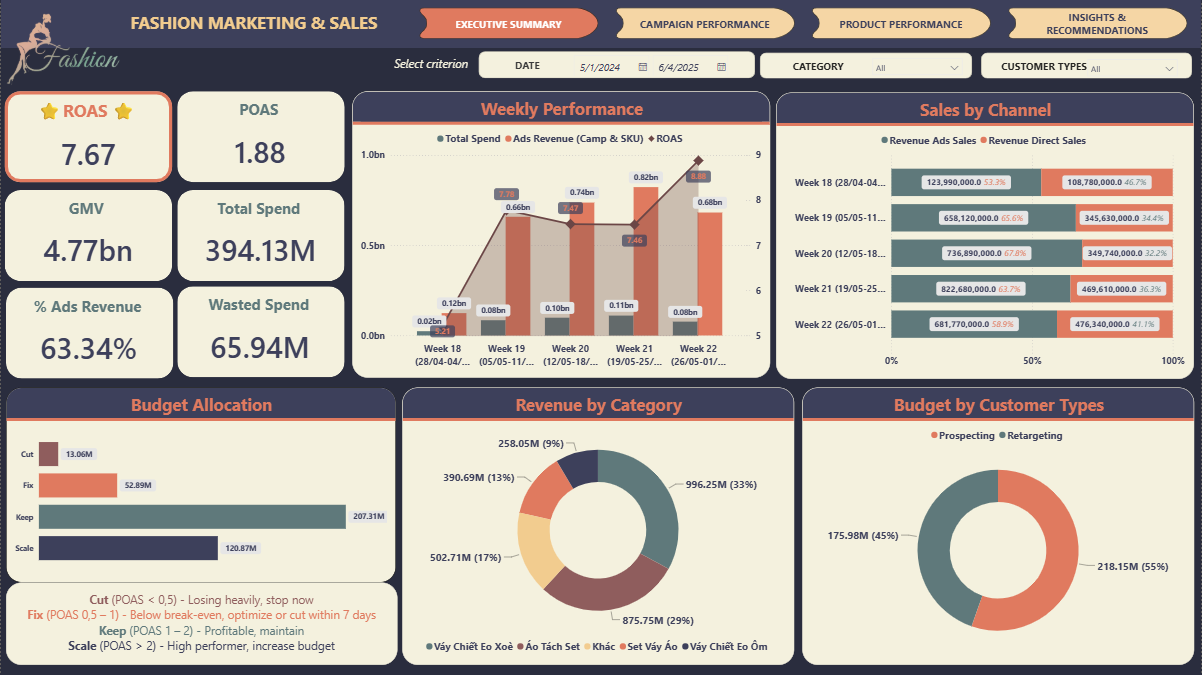

The page's visual inventory and layout, read from the dashboard file:
{"tool":"powerbi","page":{"name":"EXECUTIVE SUMMARY","canvas":[1920,1080],"ordinal":0},"visuals":[{"type":"shape","box":[0,0,1920.5,77],"z":0},{"type":"shape","box":[764,81.5,442.7,43.2],"z":0,"group":"g1"},{"type":"textbox","box":[779.7,86.8,124.4,32],"z":1000,"group":"g1"},{"type":"shape","box":[282.1,146,267.8,145.4],"z":1000,"group":"g2"},{"type":"lineClusteredColumnComboChart","title":"Weekly Performance","fields":{"Category":["Dim_Date.Week-Date"],"Y":["_Measures.Total Spend","_Measures.Revenue of Ads (by Camp and SKU)"],"Y2":["_Measures.ROAS (Return on Ads Spend)"]},"box":[561.1,146,669.2,458.8],"z":1000},{"type":"shape","box":[5.2,146.7,267.8,145.5],"z":1000,"group":"g3"},{"type":"shape","box":[282.1,303.7,267.8,145.9],"z":1000,"group":"g5"},{"type":"shape","box":[5.2,304.1,267.8,145.9],"z":1000,"group":"g6"},{"type":"shape","box":[281.5,458.7,267.8,145.9],"z":1000,"group":"g7"},{"type":"shape","box":[7.6,460.1,267.8,145.9],"z":1000,"group":"g8"},{"type":"slicer","fields":{"Values":["Dim_Date.Date"]},"box":[903.1,83.2,287.5,37.5],"z":2000,"group":"g1"},{"type":"clusteredBarChart","title":"Budget Allocation","fields":{"Category":["Dim_Camp_Cost.Action Bucket Col"],"Y":["_Measures.Total Spend"]},"box":[8,620,624,312],"z":2000},{"type":"shape","box":[1214.7,83.4,339.8,41.7],"z":3000,"group":"g1"},{"type":"textbox","box":[8,932,626,132],"z":3000},{"type":"pageNavigator","box":[662,12,1244,50],"z":4000},{"type":"textbox","box":[1221.6,89.6,170.8,32.3],"z":4000,"group":"g1"},{"type":"textbox","box":[623.7,83.4,141.1,40],"z":5000},{"type":"slicer","fields":{"Values":["Dim_Product.Danh mục"]},"box":[1384.9,87.2,164.2,35.2],"z":5000,"group":"g1"},{"type":"textbox","box":[276.9,154.7,273.2,66.6],"z":5000,"group":"g2"},{"type":"textbox","box":[0,155.4,273.2,66.6],"z":5000,"group":"g3"},{"type":"textbox","box":[276.9,312.4,273.1,66.8],"z":5000,"group":"g5"},{"type":"textbox","box":[0,312.8,273.2,66.8],"z":5000,"group":"g6"},{"type":"textbox","box":[276.3,467.4,273.2,66.8],"z":5000,"group":"g7"},{"type":"textbox","box":[2.4,468.8,273.2,66.8],"z":5000,"group":"g8"},{"type":"group","id":"g1","title":"Group 2","box":[764,81.5,1129.9,43.6],"z":6000},{"type":"shape","box":[1568.1,83.4,337.7,41.7],"z":6000,"group":"g1"},{"type":"group","id":"g2","title":"Group 1","box":[276.9,146,273.2,145.9],"z":6000,"group":"g9"},{"type":"group","id":"g3","title":"Group 1","box":[0,146.7,273.8,147.5],"z":6000,"group":"g4"},{"type":"group","id":"g4","title":"Group 3","box":[0,146.7,273.8,147.5],"z":6000,"group":"g10"},{"type":"group","id":"g5","title":"Group 1","box":[276.9,303.7,274.2,146.4],"z":6000,"group":"g11"},{"type":"group","id":"g6","title":"Group 1","box":[0,304.1,273.2,145.9],"z":6000,"group":"g12"},{"type":"group","id":"g7","title":"Group 1","box":[276.3,458.7,273.2,145.9],"z":6000,"group":"g15"},{"type":"group","id":"g8","title":"Group 1","box":[2.4,460.1,273.2,145.9],"z":6000,"group":"g13"},{"type":"textbox","box":[1587,89,162,34],"z":7000},{"type":"slicer","fields":{"Values":["Dim_Camp_Cost.Customer Types"]},"box":[1728.6,89,164.3,34.6],"z":8000,"group":"g1"},{"type":"hundredPercentStackedBarChart","title":"Sales by Channel","fields":{"Category":["Dim_Date.Week-Date"],"Y":["_Measures.Revenue Ads Sales","_Measures.Revenue Direct Sales"]},"box":[1239.8,147.9,669.2,458.8],"z":8000},{"type":"donutChart","title":"Budget by Customer Types","fields":{"Category":["Dim_Camp_Cost.Customer Types"],"Y":["_Measures.Total Spend"]},"box":[1281.5,619.9,627.5,443.6],"z":9000},{"type":"group","id":"g9","title":"Group 3","box":[276.9,146,273.2,144.7],"z":10000,"group":"g10"},{"type":"donutChart","title":"Revenue by Category","fields":{"Category":["Dim_Product.Category Group"],"Y":["_Measures.Revenue of Ads (by Camp and SKU)"]},"box":[642.7,619.9,627,443.6],"z":10000},{"type":"group","id":"g10","title":"Group 4","box":[0,146,551.7,458.8],"z":11000},{"type":"group","id":"g11","title":"Group 3","box":[276.9,303.7,274.8,145.2],"z":11000,"group":"g10"},{"type":"textbox","box":[201.8,12.8,421.9,47.7],"z":12000,"group":"g14"},{"type":"group","id":"g12","title":"Group 3","box":[0,304.1,273.8,146.1],"z":12000,"group":"g10"},{"type":"image","box":[0,12.8,201.8,133.9],"z":13000,"group":"g14"},{"type":"group","id":"g13","title":"Group 3","box":[2.4,460.1,272.5,144.7],"z":13000,"group":"g10"},{"type":"group","id":"g14","title":"Group 5","box":[0,12.8,623.6,133.9],"z":13001},{"type":"group","id":"g15","title":"Group 3","box":[276.3,458.7,273.8,146.1],"z":14000,"group":"g10"},{"type":"cardVisual","fields":{"Data":["_Measures.POAS"]},"box":[283,187.4,265.7,104.5],"z":16000,"group":"g2"},{"type":"cardVisual","fields":{"Data":["_Measures.ROAS (Return on Ads Spend)"]},"box":[7.7,194,264.6,99.5],"z":16000,"group":"g3"},{"type":"cardVisual","fields":{"Data":["_Measures.Total Spend"]},"box":[283.2,345.3,267.8,104.8],"z":16000,"group":"g5"},{"type":"cardVisual","fields":{"Data":["_Measures.GMV"]},"box":[5.2,345.7,267.9,103.5],"z":16000,"group":"g6"},{"type":"cardVisual","fields":{"Data":["_Measures.Wasted Spend"]},"box":[282.9,500.9,265.7,103.5],"z":16000,"group":"g7"},{"type":"cardVisual","fields":{"Data":["_Measures.% Revenue from Ads"]},"box":[9,502.3,265.7,103.5],"z":16000,"group":"g8"}]}

Visuals, with their boxes in screenshot pixels (x1, y1, x2, y2), scaled from the page's 1920x1080 canvas onto the 1202x675 screenshot:
shape: bbox(0, 0, 1201, 48)
shape: bbox(478, 51, 755, 78)
textbox: bbox(488, 54, 566, 74)
shape: bbox(177, 91, 344, 182)
"Weekly Performance" lineClusteredColumnComboChart: bbox(351, 91, 770, 378)
shape: bbox(3, 92, 171, 183)
shape: bbox(177, 190, 344, 281)
shape: bbox(3, 190, 171, 281)
shape: bbox(176, 287, 344, 378)
shape: bbox(5, 288, 172, 379)
slicer - Dim_Date.Date: bbox(565, 52, 745, 75)
"Budget Allocation" clusteredBarChart: bbox(5, 388, 396, 582)
shape: bbox(760, 52, 973, 78)
textbox: bbox(5, 582, 397, 665)
pageNavigator: bbox(414, 8, 1193, 39)
textbox: bbox(765, 56, 872, 76)
textbox: bbox(390, 52, 479, 77)
slicer - Dim_Product.Danh mục: bbox(867, 54, 970, 76)
textbox: bbox(173, 97, 344, 138)
textbox: bbox(0, 97, 171, 139)
textbox: bbox(173, 195, 344, 237)
textbox: bbox(0, 196, 171, 237)
textbox: bbox(173, 292, 344, 334)
textbox: bbox(2, 293, 173, 335)
"Group 2" group: bbox(478, 51, 1186, 78)
shape: bbox(982, 52, 1193, 78)
"Group 1" group: bbox(173, 91, 344, 182)
"Group 1" group: bbox(0, 92, 171, 184)
"Group 3" group: bbox(0, 92, 171, 184)
"Group 1" group: bbox(173, 190, 345, 281)
"Group 1" group: bbox(0, 190, 171, 281)
"Group 1" group: bbox(173, 287, 344, 378)
"Group 1" group: bbox(2, 288, 173, 379)
textbox: bbox(994, 56, 1095, 77)
slicer - Dim_Camp_Cost.Customer Types: bbox(1082, 56, 1185, 77)
"Sales by Channel" hundredPercentStackedBarChart: bbox(776, 92, 1195, 379)
"Budget by Customer Types" donutChart: bbox(802, 387, 1195, 665)
"Group 3" group: bbox(173, 91, 344, 182)
"Revenue by Category" donutChart: bbox(402, 387, 795, 665)
"Group 4" group: bbox(0, 91, 345, 378)
"Group 3" group: bbox(173, 190, 345, 281)
textbox: bbox(126, 8, 390, 38)
"Group 3" group: bbox(0, 190, 171, 281)
image: bbox(0, 8, 126, 92)
"Group 3" group: bbox(2, 288, 172, 378)
"Group 5" group: bbox(0, 8, 390, 92)
"Group 3" group: bbox(173, 287, 344, 378)
cardVisual - _Measures.POAS: bbox(177, 117, 344, 182)
cardVisual - _Measures.ROAS (Return on Ads Spend): bbox(5, 121, 170, 183)
cardVisual - _Measures.Total Spend: bbox(177, 216, 345, 281)
cardVisual - _Measures.GMV: bbox(3, 216, 171, 281)
cardVisual - _Measures.Wasted Spend: bbox(177, 313, 343, 378)
cardVisual - _Measures.% Revenue from Ads: bbox(6, 314, 172, 379)
